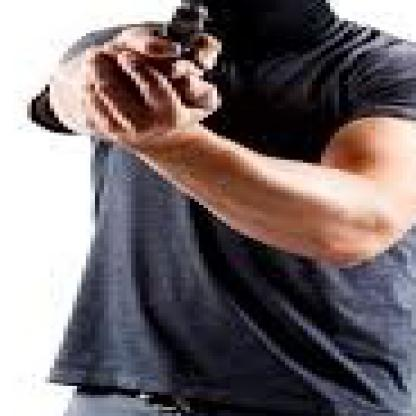gun: (153, 0, 218, 79)
